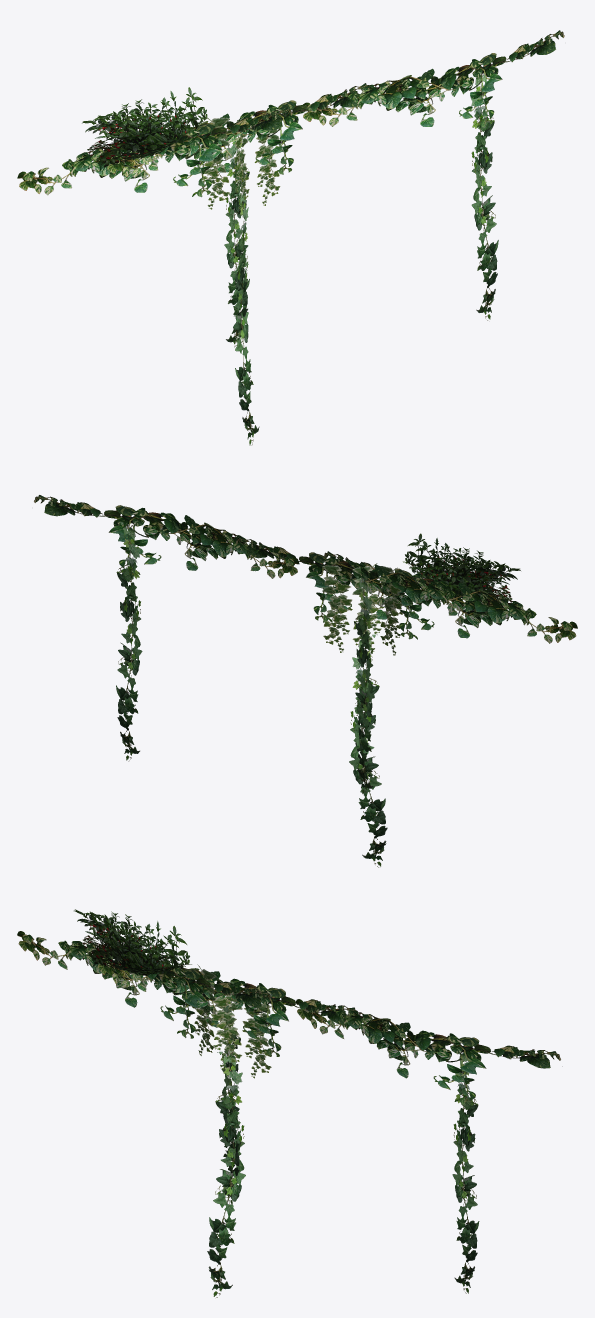
File: Ivy_C.fbx
3 renders of one model, top to bottom at view 1: azimuth 30°, elevation 25°; view 2: azimuth 150°, elevation 25°; view 3: azimuth 330°, elevation 25°, orthographic. The views are drawn at different scales.
Visible parts, largest first — view 1: Ivy_3; view 2: Ivy_3; view 3: Ivy_3.
Boxes of the visible parts, <box> form: Ivy_3: <box>17,30,564,445</box>; Ivy_3: <box>34,495,577,867</box>; Ivy_3: <box>17,909,562,1297</box>.
Size of the model in its own units: 2186 by 1402 by 184.
